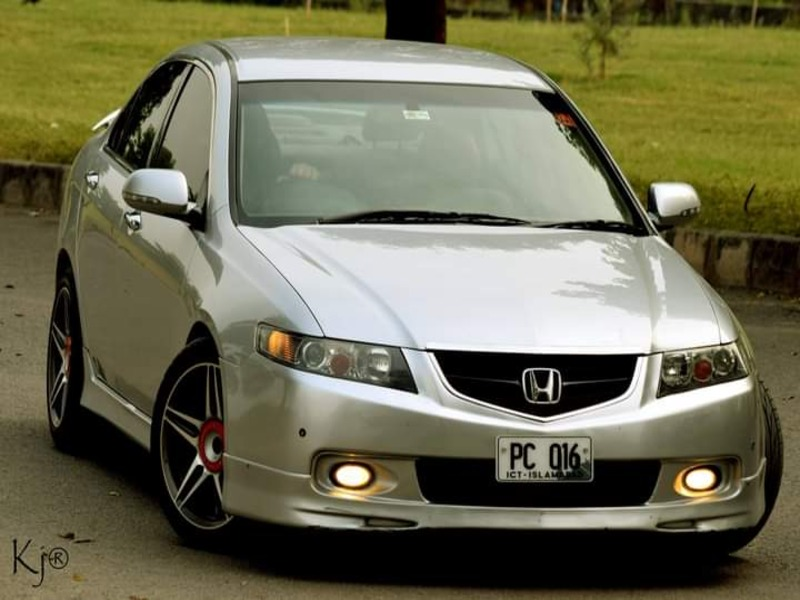License Plate: (495, 434, 596, 487)
